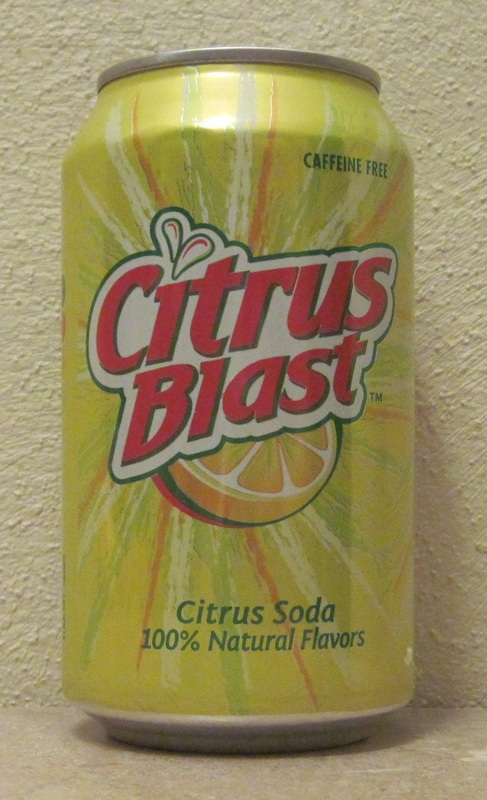Can: (55, 56, 443, 749)
